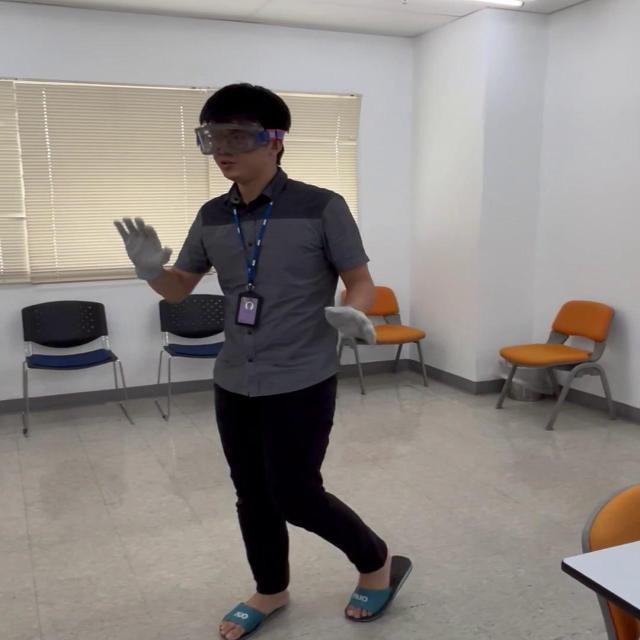gloved_hand: (114, 211, 179, 288), (319, 298, 378, 349)
